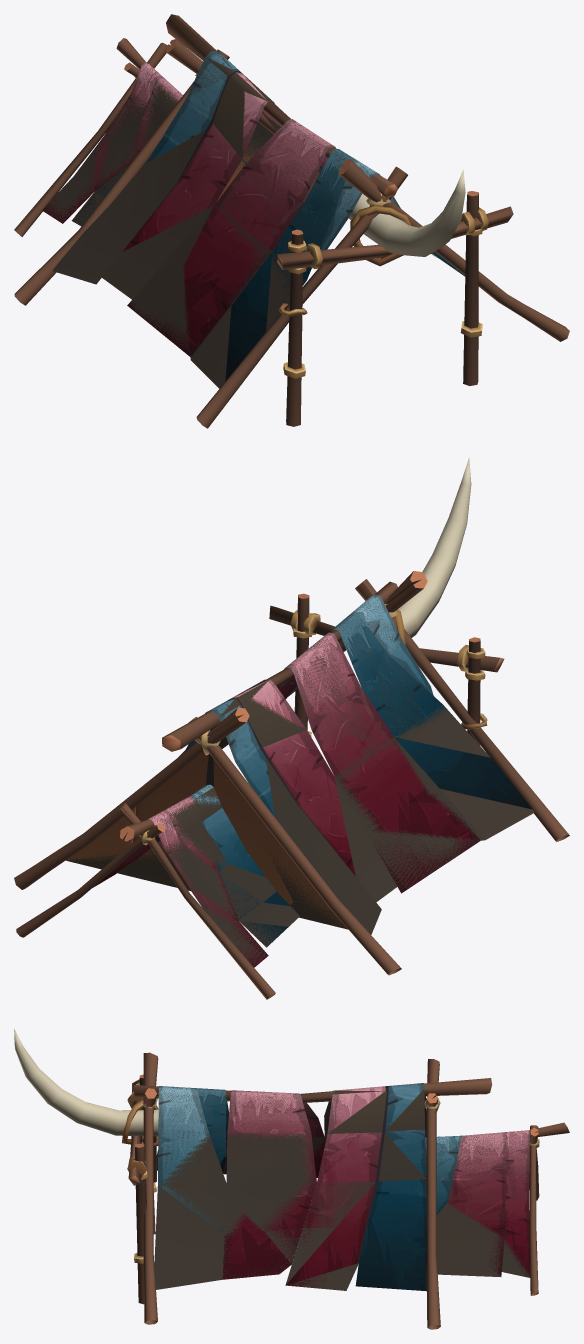
The model's file is Tent_1C.FBX.
3 views of the same model, one above another, from view 1: azimuth 30°, elevation 25°; view 2: azimuth 150°, elevation 25°; view 3: azimuth 270°, elevation 25° (orthographic). The views are drawn at different scales.
Visible parts, largest first — view 1: Tent_1C; view 2: Tent_1C; view 3: Tent_1C.
Part boxes in pixels (box(x1,y1,x2,y2)): Tent_1C: box(14, 14, 569, 428); Tent_1C: box(14, 457, 569, 999); Tent_1C: box(14, 1029, 569, 1329).
Bounding box in the file's own units: 798 × 590 × 1243.
